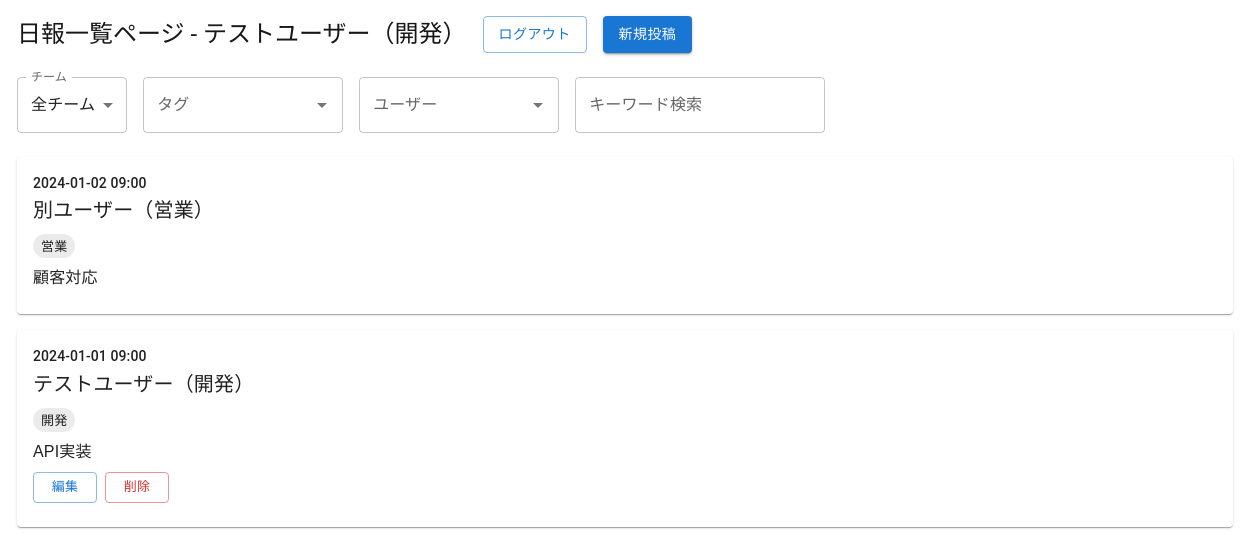
ReportsPage › フィルタリング機能 › タグの絞り込み：開発タグを選ぶと該当レポートだけ表示
Expected: the text "API実装" is shown, [33, 443, 92, 460]
Expected: the text "顧客対応" is shown, [33, 270, 98, 286]
Note: タグの選択を修正
Press the mouse on the dropdown labelled "タグ" at (228, 104), box [152, 86, 304, 124]
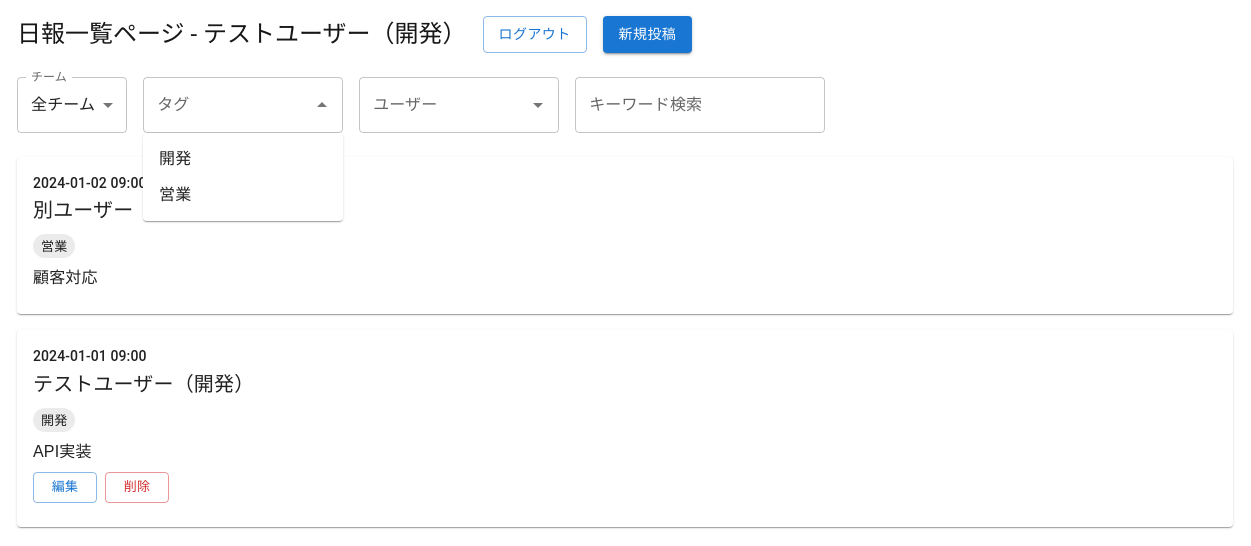
Click the option "開発" at (175, 158), box [159, 149, 191, 168]
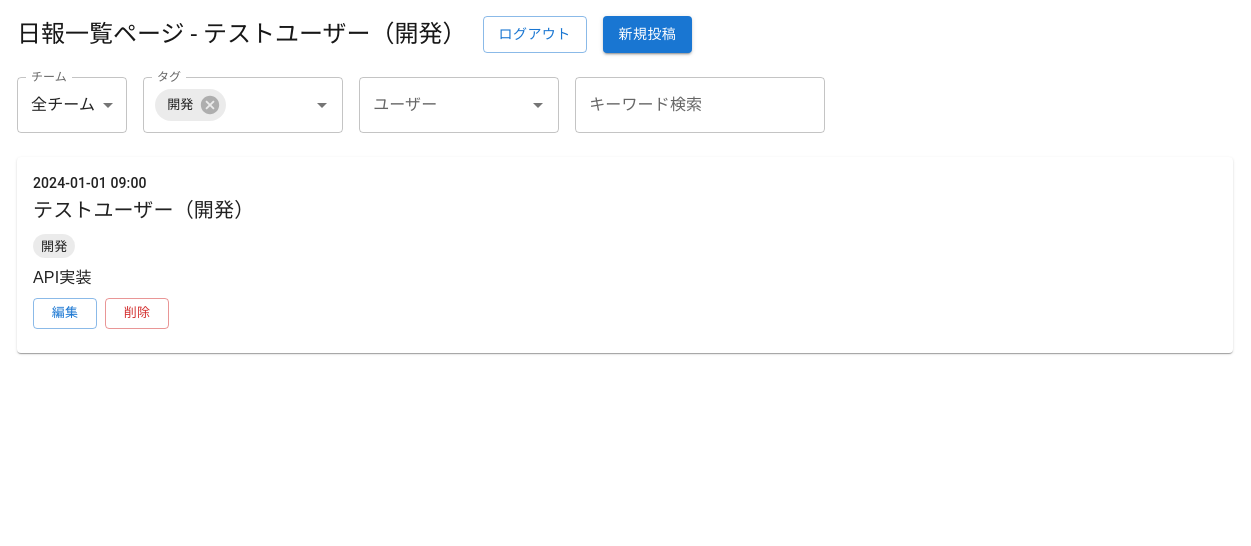
Expected: the text "API実装" is shown, [33, 270, 92, 286]
Result: the text "顧客対応" is gone
